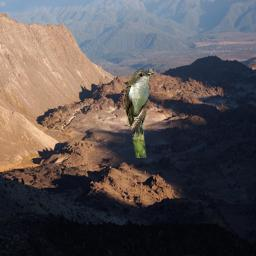Cuckoo: (125, 67, 155, 158)
